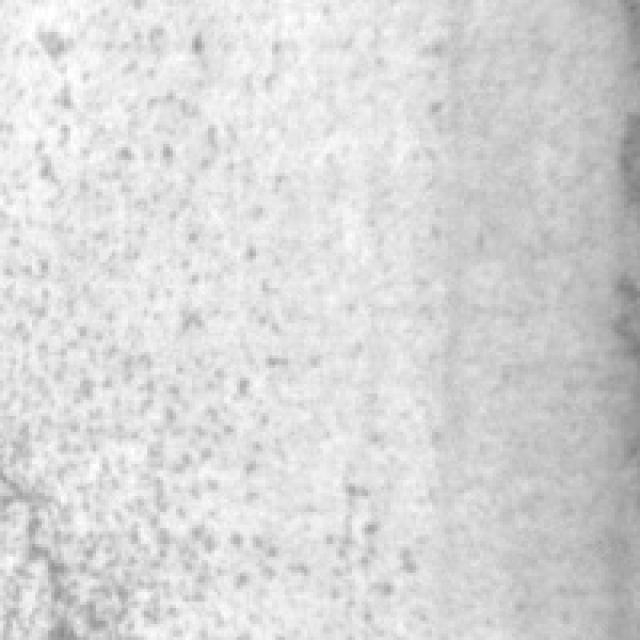pitted_surface: (0, 19, 400, 634)
